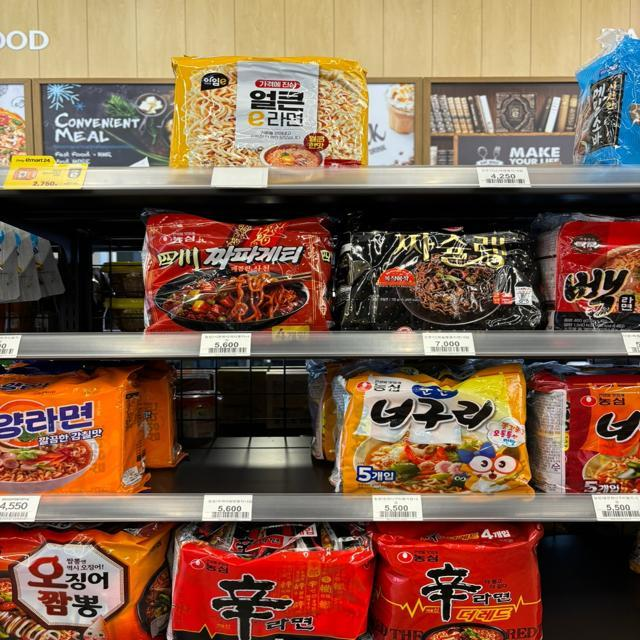product: (173, 54, 363, 177), (342, 371, 528, 494), (148, 212, 327, 328), (347, 225, 539, 332), (182, 542, 372, 640), (379, 533, 538, 637), (1, 534, 144, 635), (2, 382, 115, 495), (562, 380, 640, 494), (560, 224, 640, 330)
